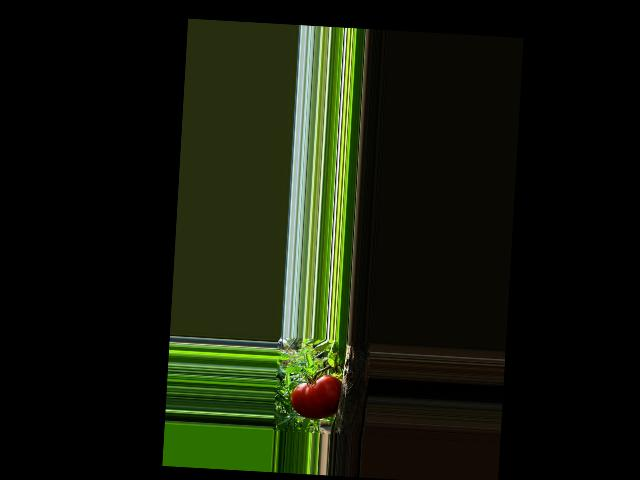tomato: (289, 372, 342, 420)
